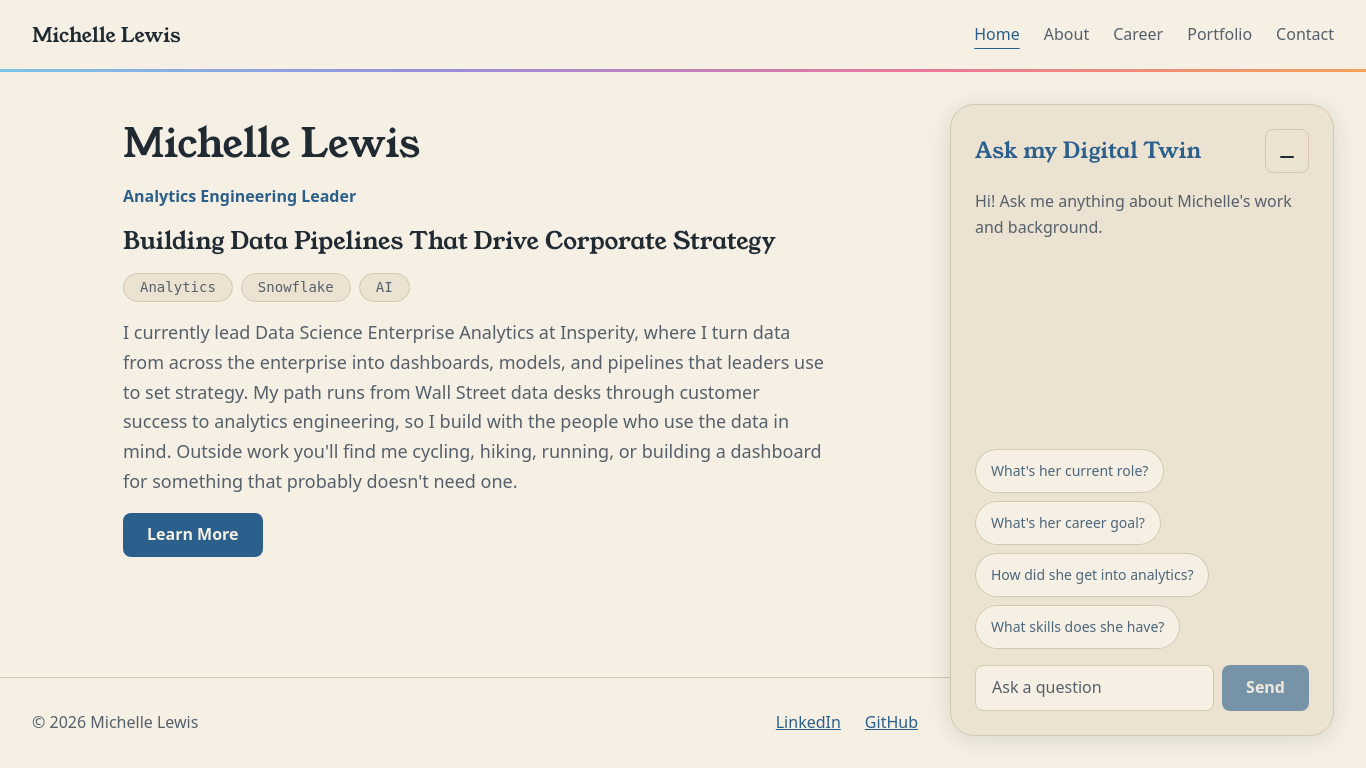
text the visitor typed stays in the box when they click a question
Type "abc" into the field named "Your question". click: (1095,688)
box: [975,665,1214,711]
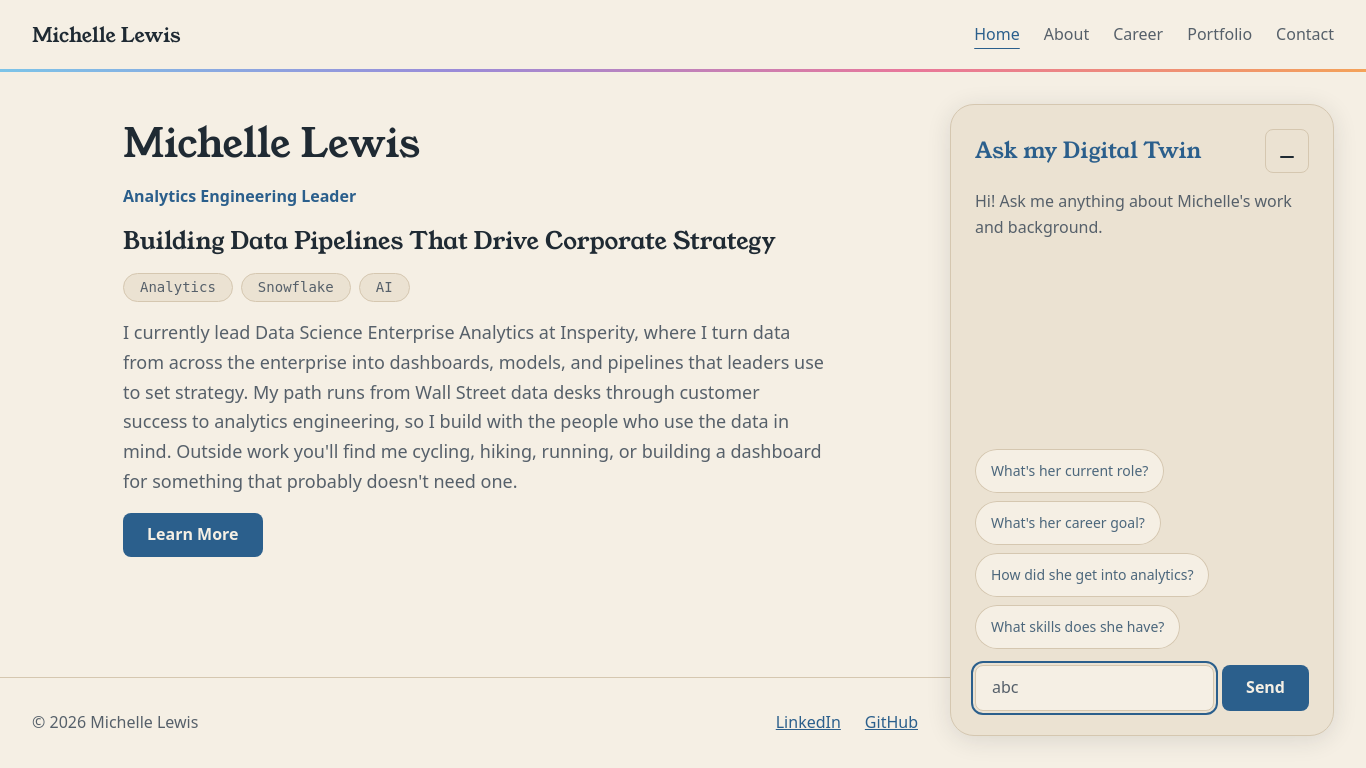
Click the button "What's her career goal?". click: (1068,523)
box: [975,501,1161,545]
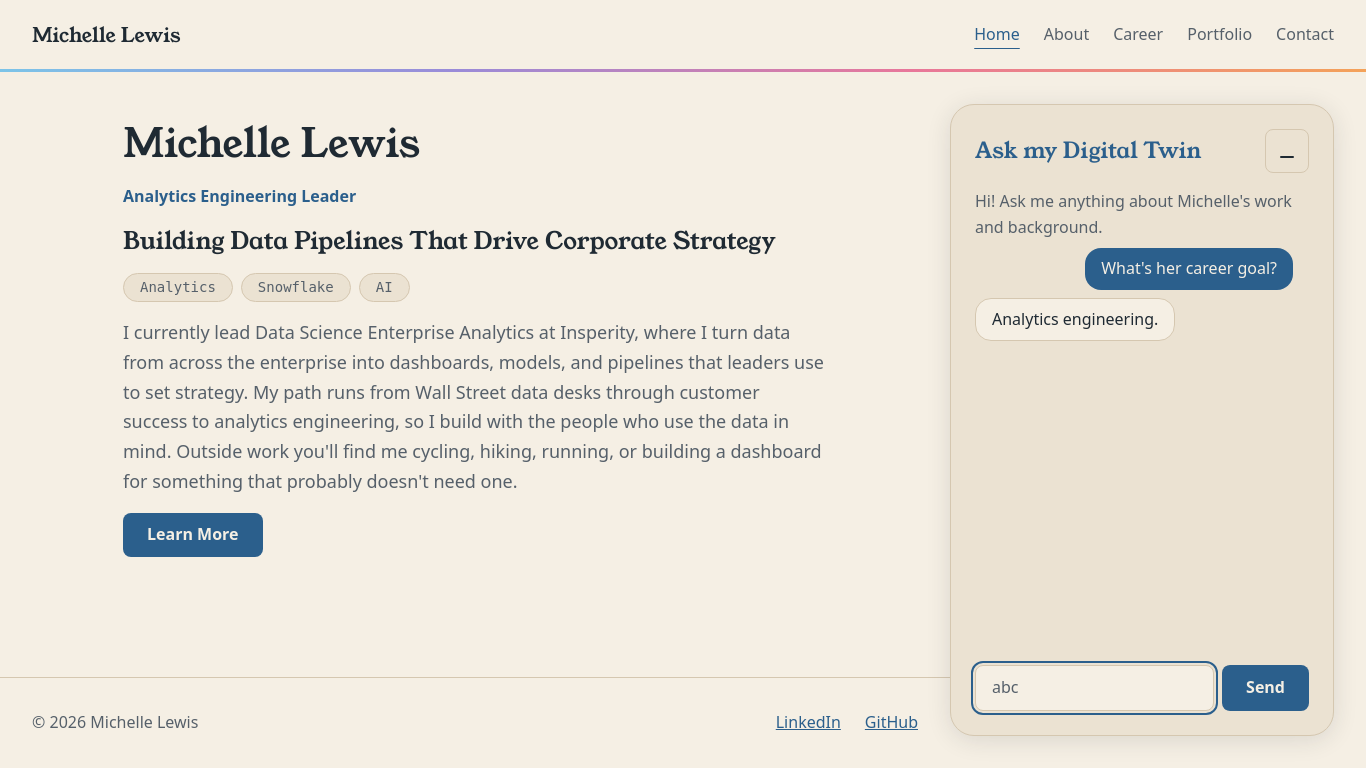
Result: the text "Analytics engineering." is shown at [975,298,1175,341]
